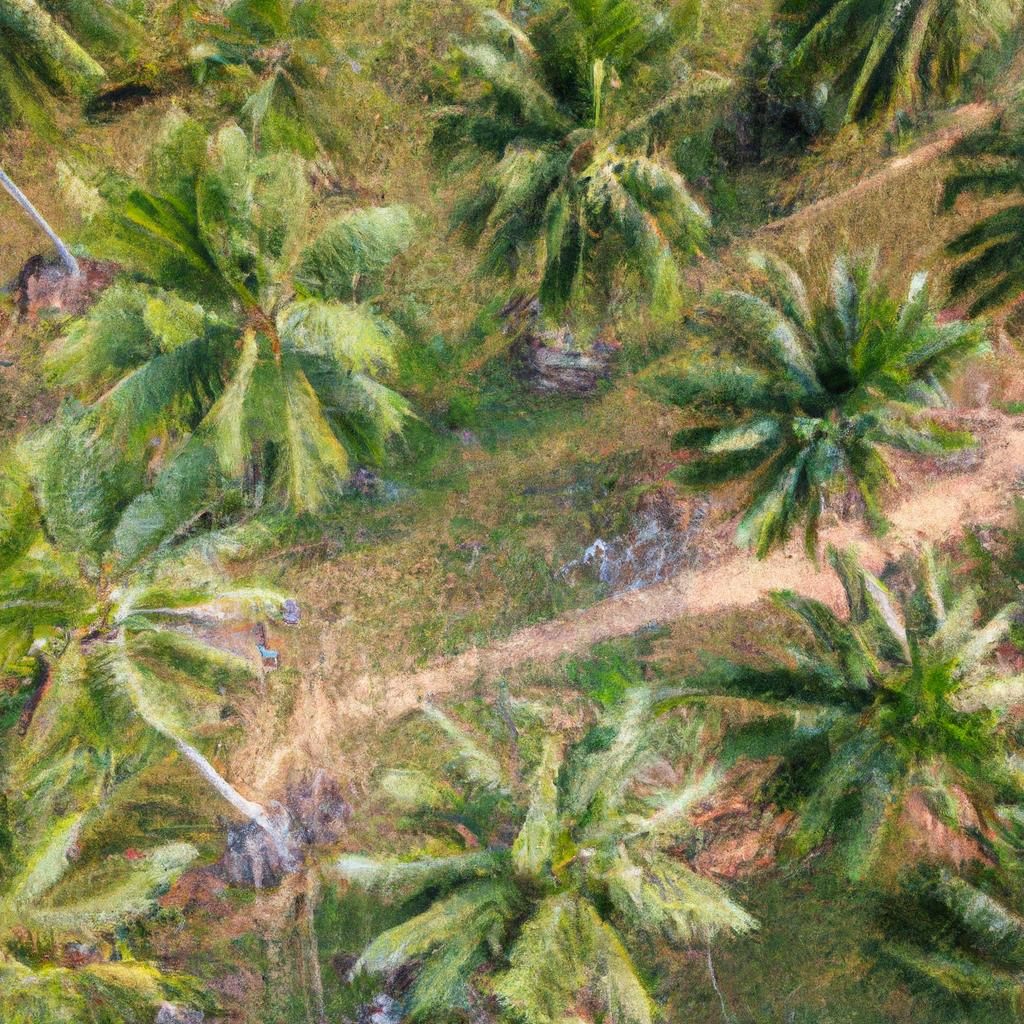coconut_tree: (343, 661, 800, 1023), (55, 140, 454, 515), (676, 566, 1023, 891), (657, 256, 1001, 575), (420, 10, 760, 332)
